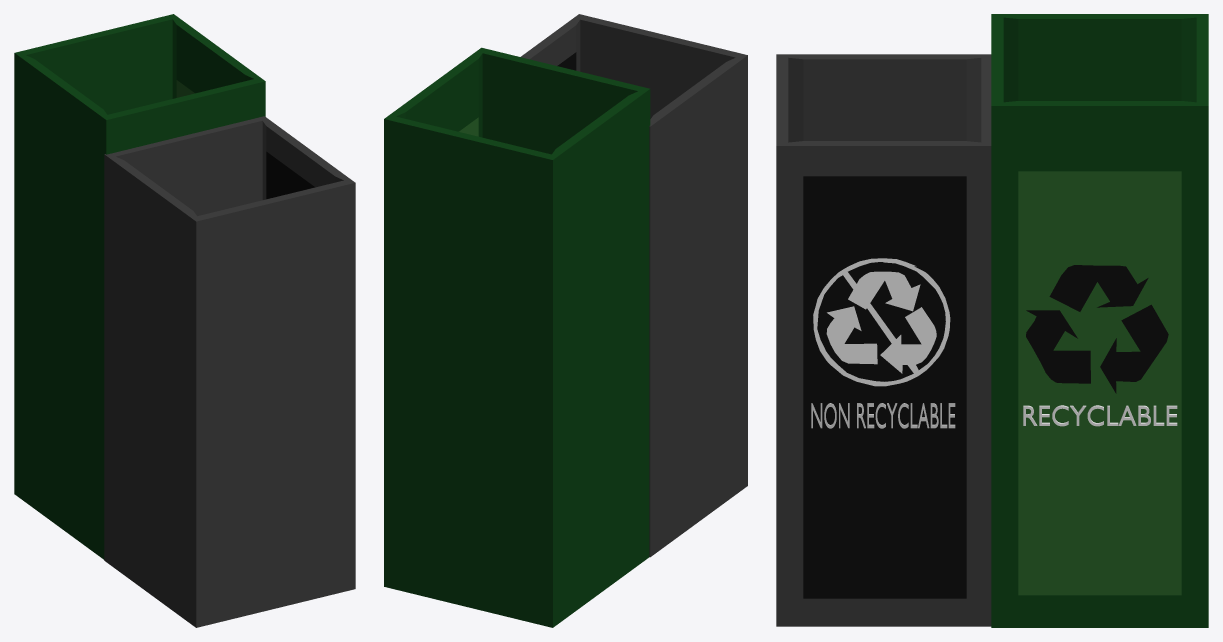
File: Trashcans.fbx
The picture shows the model from 3 angles, left to right: view 1: azimuth 30°, elevation 25°; view 2: azimuth 150°, elevation 25°; view 3: azimuth 270°, elevation 25°; orthographic projection. The views are drawn at different scales.
Visible parts, largest first — view 1: Untitled_design-removebg-preview.025; view 2: Untitled_design-removebg-preview.025; view 3: Untitled_design-removebg-preview.025.
Part boxes in pixels (left/top/right/bottom): Untitled_design-removebg-preview.025: left=14, top=14, right=355, bottom=627; Untitled_design-removebg-preview.025: left=384, top=14, right=747, bottom=627; Untitled_design-removebg-preview.025: left=776, top=14, right=1208, bottom=627.
Size of the model in its own units: 203 by 530 by 398.
